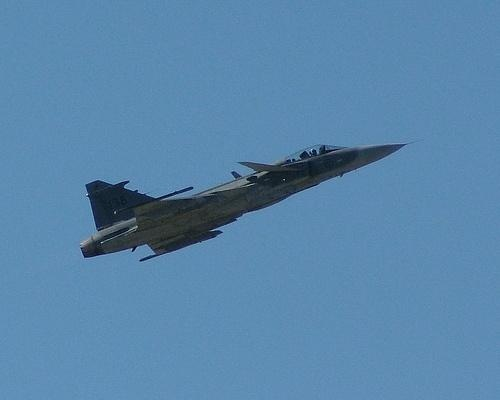aeroplane: (75, 137, 417, 265)
